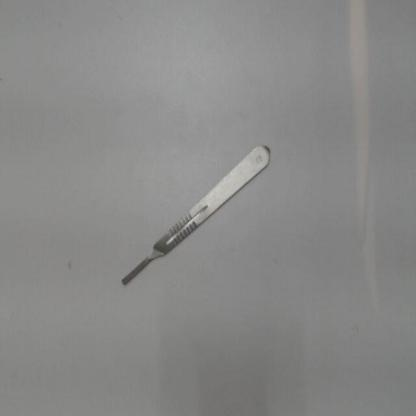No.4 BP Handle: (114, 137, 283, 295)
